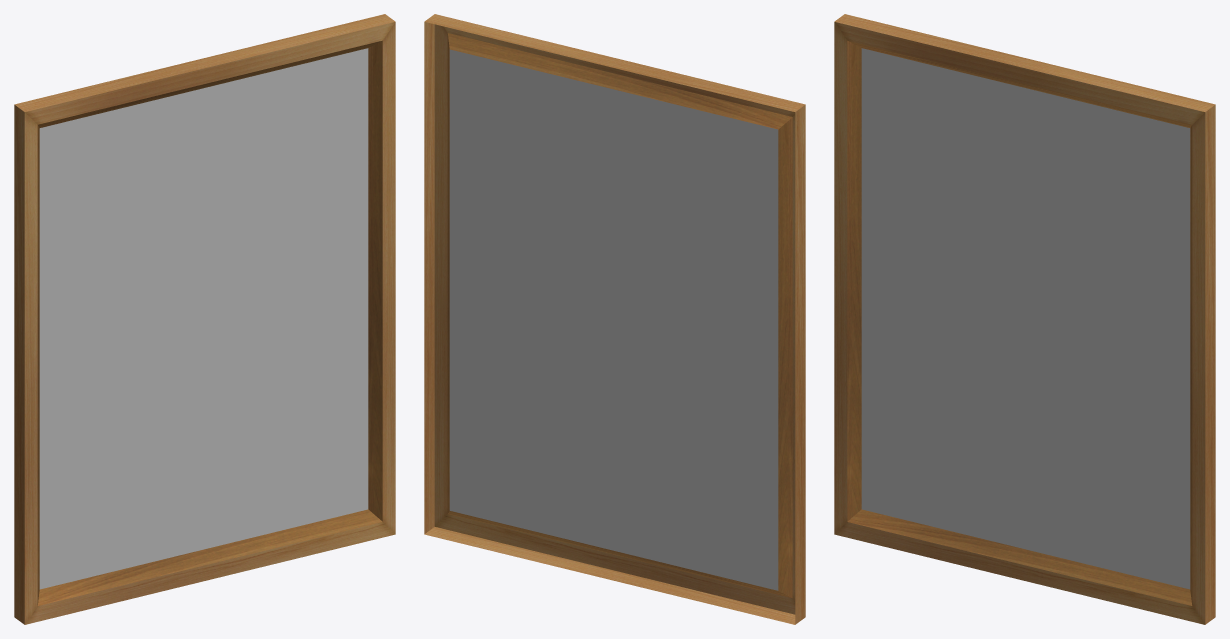
The model's file is mirror5.FBX.
The picture shows the model from 3 angles, left to right: view 1: azimuth 30°, elevation 25°; view 2: azimuth 150°, elevation 25°; view 3: azimuth 330°, elevation 25°; orthographic projection.
Visible parts, largest first — view 1: Object; view 2: Object; view 3: Object.
Boxes of the visible parts, x1=… form: Object: x1=14, y1=14, x2=395, y2=624; Object: x1=424, y1=14, x2=805, y2=624; Object: x1=834, y1=14, x2=1215, y2=624.
Bounding box in the file's own units: 31.7 × 1.56 × 41.88.
